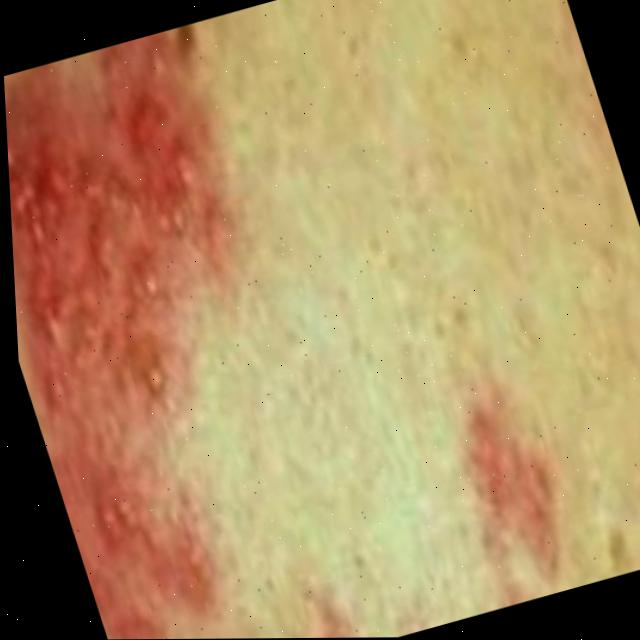Shingles: (1, 23, 369, 640), (435, 388, 580, 588)
